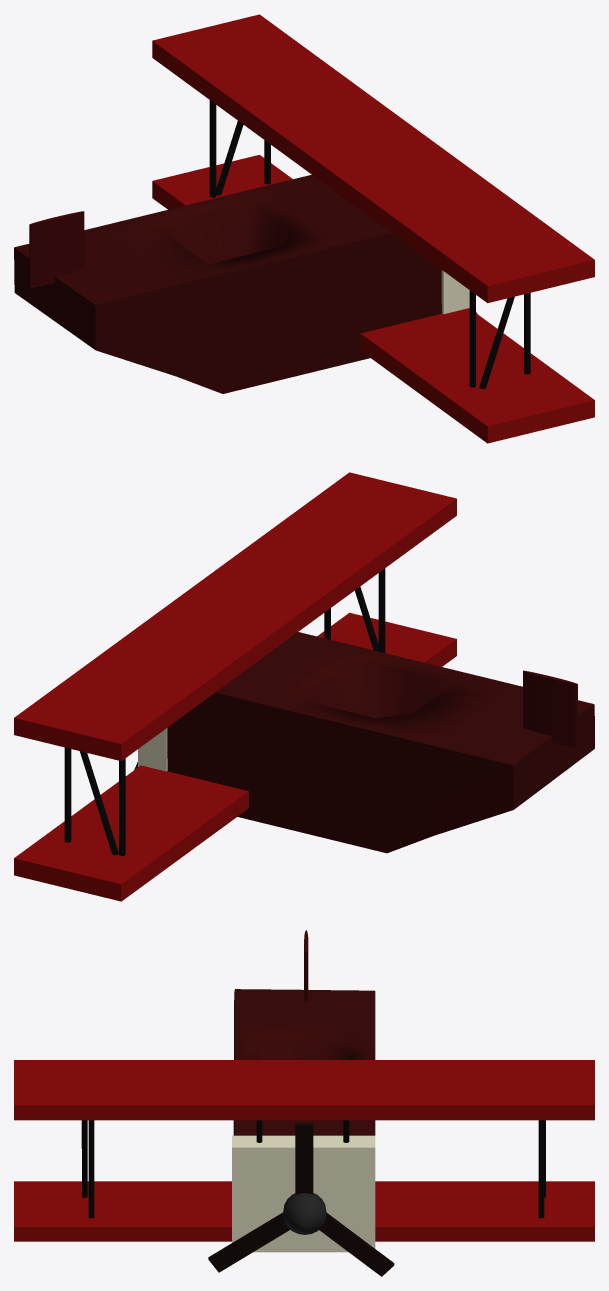
File: plane+elica.obj
3 views of the same model, one above another, from view 1: azimuth 30°, elevation 25°; view 2: azimuth 150°, elevation 25°; view 3: azimuth 270°, elevation 25° (orthographic). The views are drawn at different scales.
Parts seen in each view (by area): view 1: polySurface24; view 2: polySurface24; view 3: polySurface24.
Part boxes in pixels (x1=…): polySurface24: x1=14, y1=14, x2=594, y2=443; polySurface24: x1=14, y1=472, x2=594, y2=901; polySurface24: x1=14, y1=930, x2=594, y2=1276.
Size of the model in its own units: 7.65 by 3.32 by 10.04.
